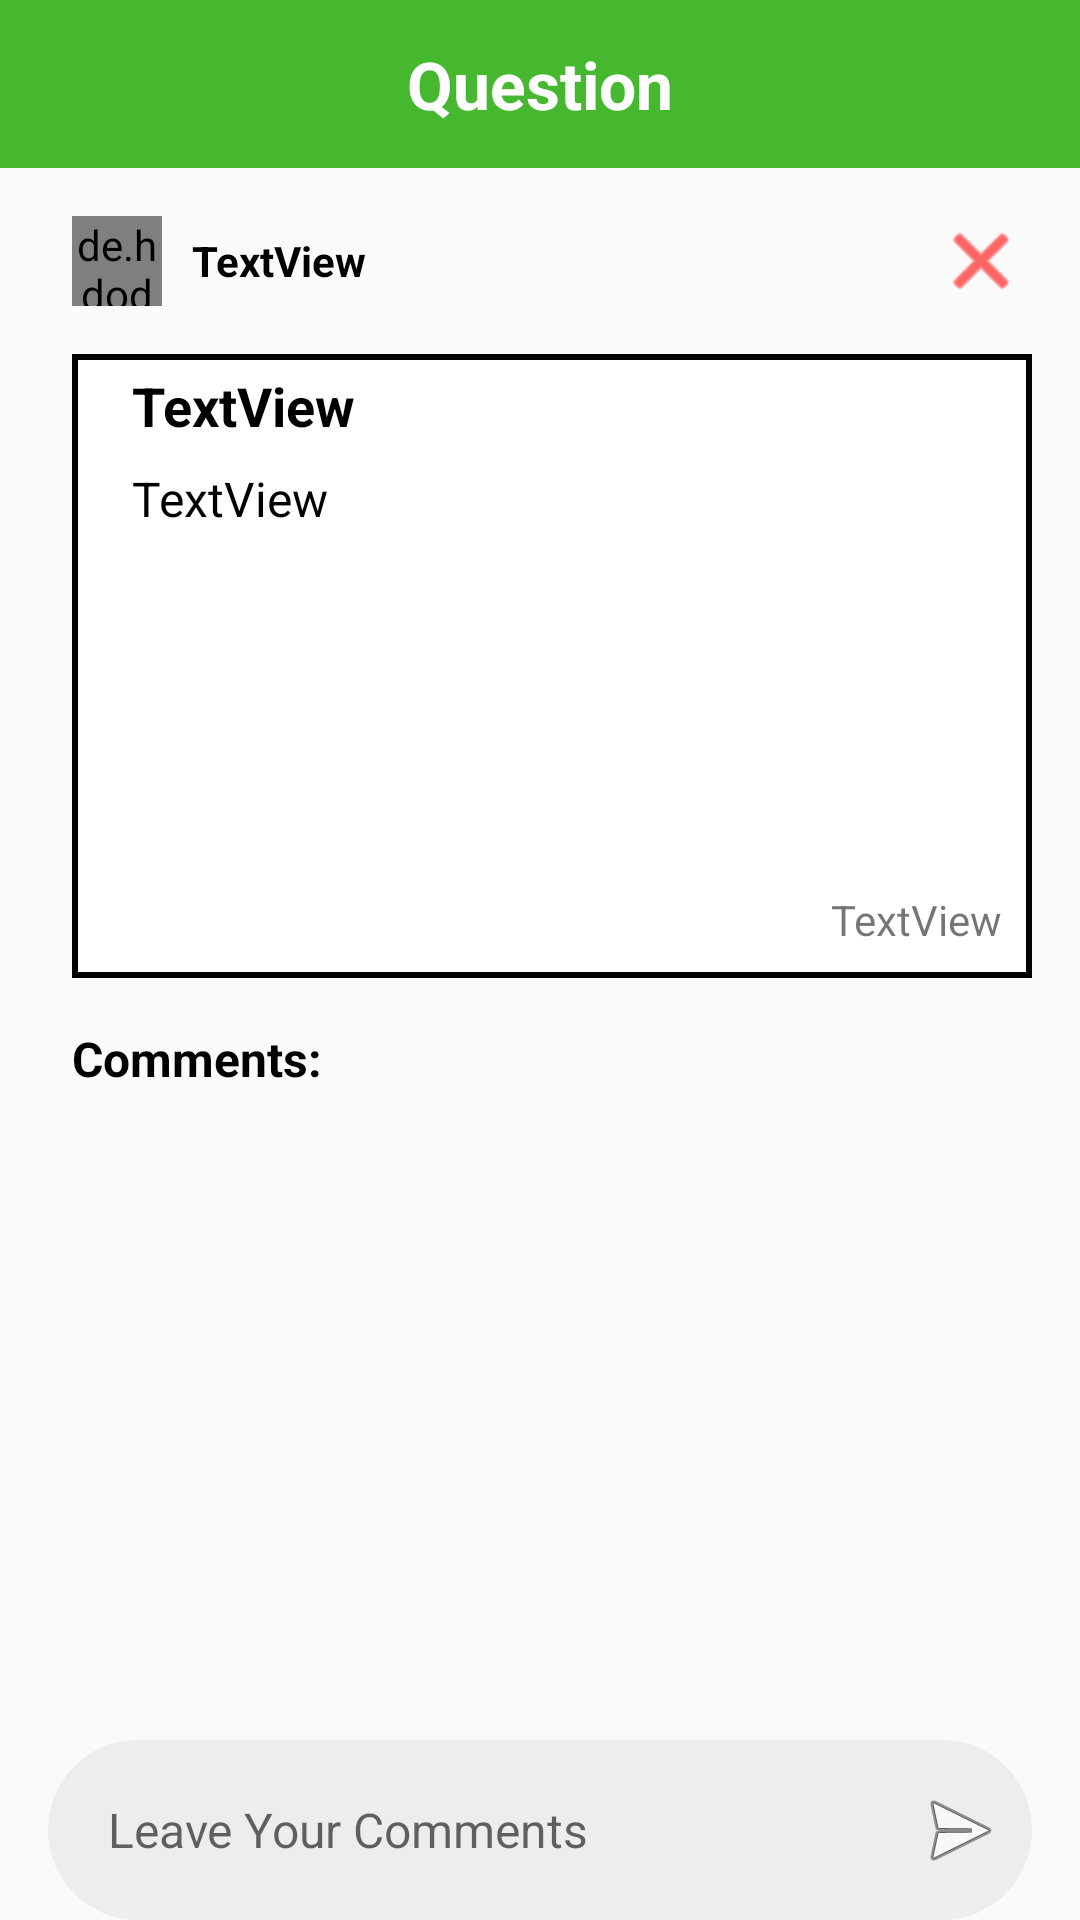

Screen size 1080*1920. Icon name, then its box in pixels as {"left": x1, "top": y1, "right": x2, "bottom": y2}:
close clear cancel: {"left": 953, "top": 233, "right": 1009, "bottom": 289}
send: {"left": 930, "top": 1800, "right": 992, "bottom": 1861}
